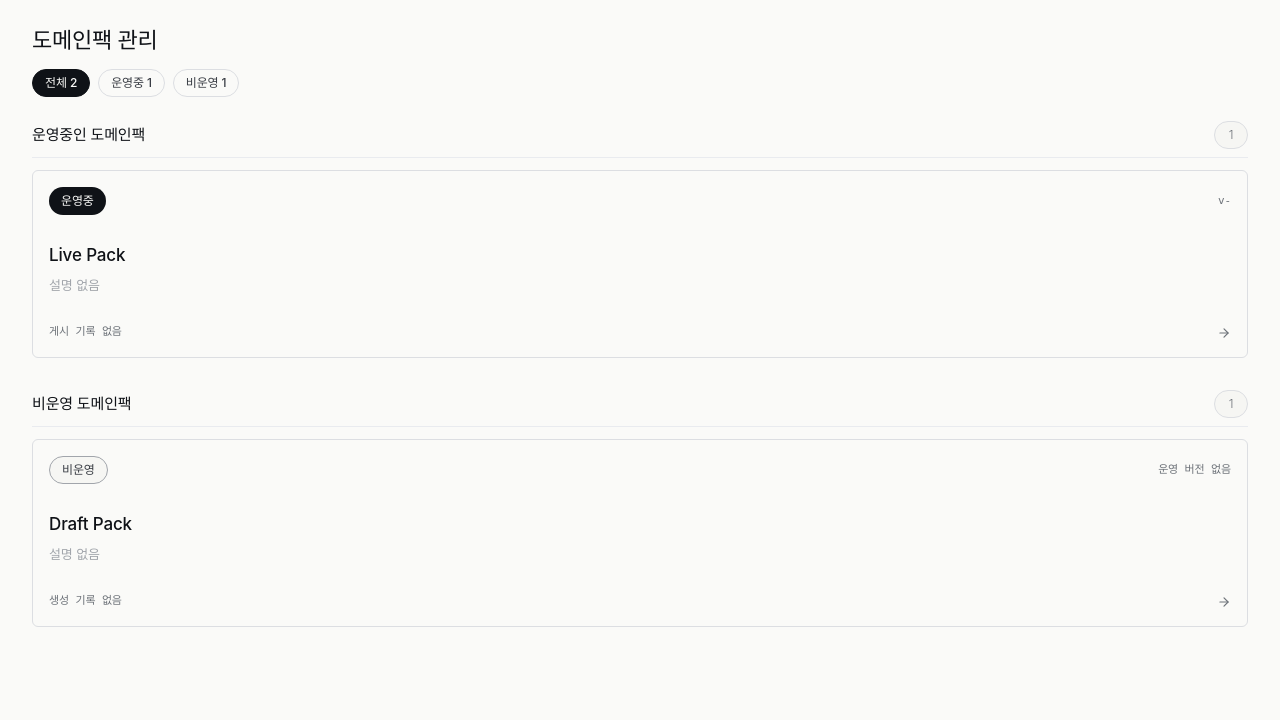
Test: DomainPackListPage › 비운영 필터를 선택하면 비운영 도메인팩만 표시한다
The image size is (1280, 720).
What coordinates should you click on to do the following:
click the button "비운영 1"
I would click on:
 (206, 83)
Its box is [173,69,239,97].
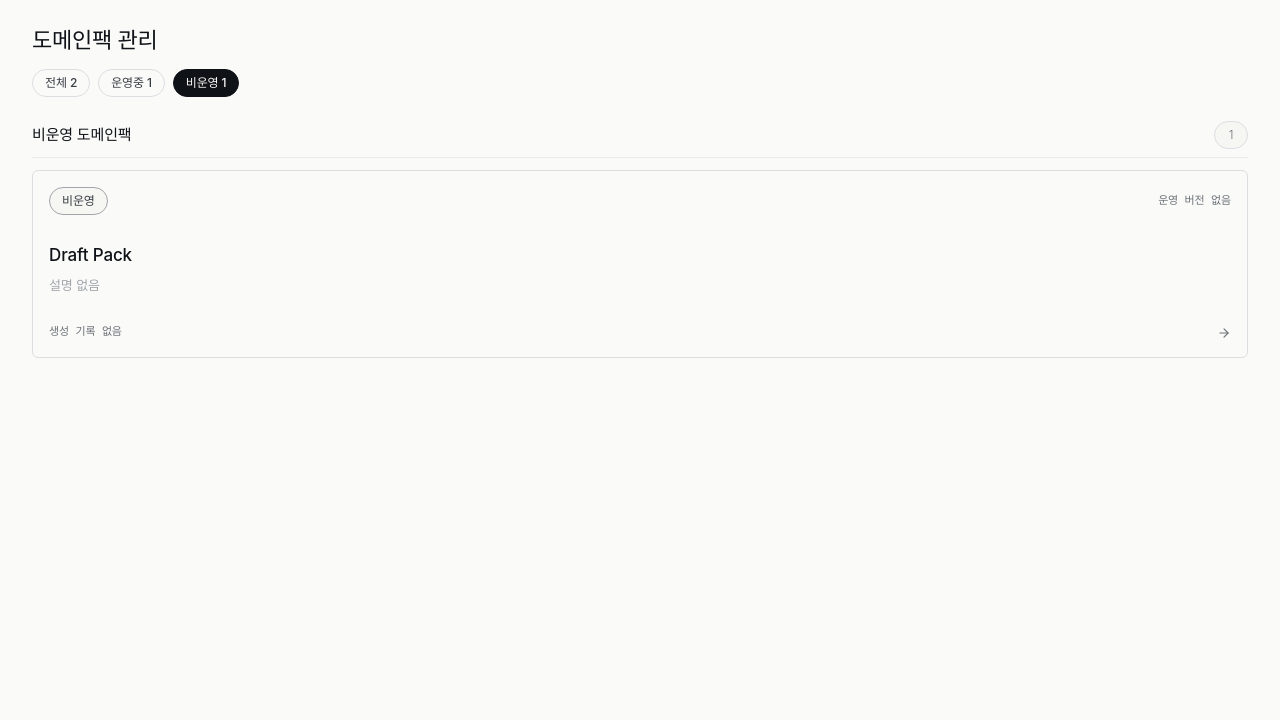
Expected: the heading "Draft Pack" is shown, [49,245,132,265]
Now the link "Live Pack" is gone
Now the heading "운영중인 도메인팩" is gone
